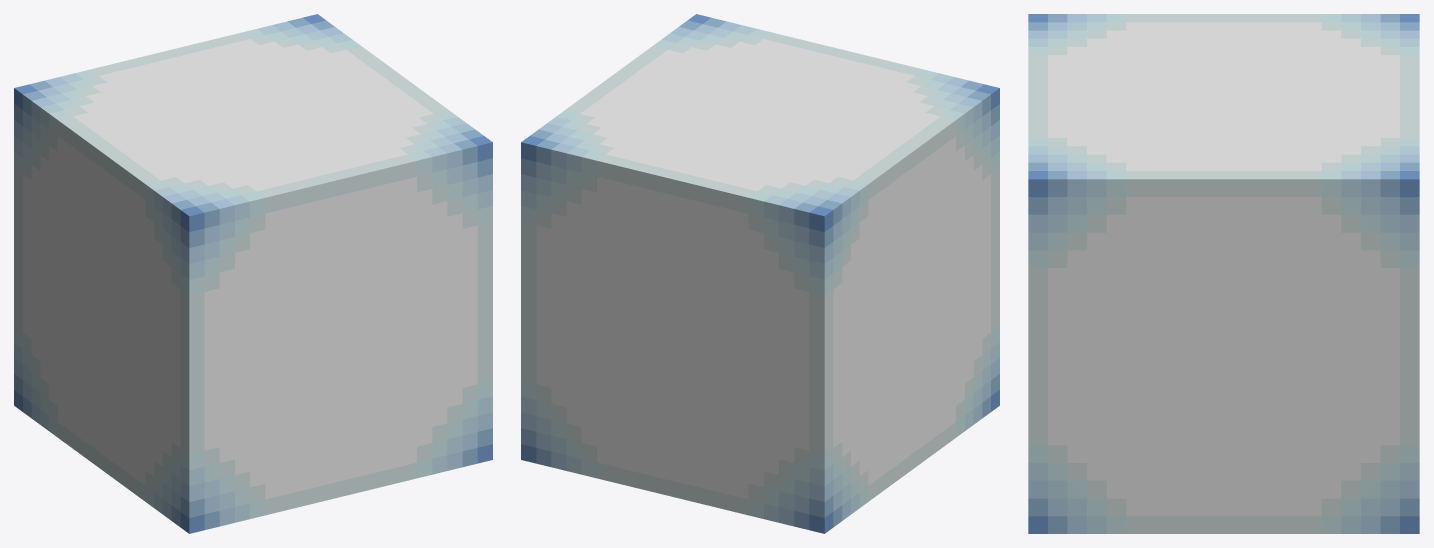
Rendered from Snow.obj.
The picture shows the model from 3 angles, left to right: view 1: azimuth 30°, elevation 25°; view 2: azimuth 150°, elevation 25°; view 3: azimuth 270°, elevation 25°; orthographic projection. The views are drawn at different scales.
Size of the model in its own units: 2 by 2 by 2.
1 material, 1 textured.
